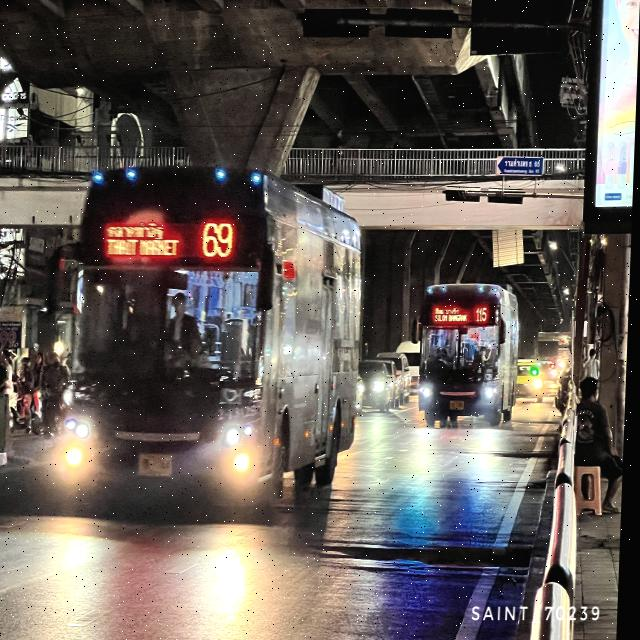Bus Line Number: (199, 213, 245, 263), (476, 302, 494, 324)
Bus Side Number: (216, 404, 264, 418), (485, 380, 504, 388)
Destination Sign: (103, 216, 189, 260), (437, 303, 471, 325)
TSB-Bus: (61, 155, 370, 522), (419, 273, 525, 428)
